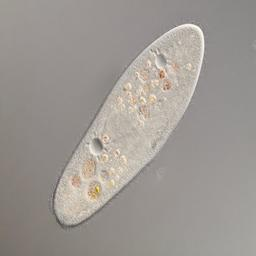Paramecium: (53, 23, 206, 227)
